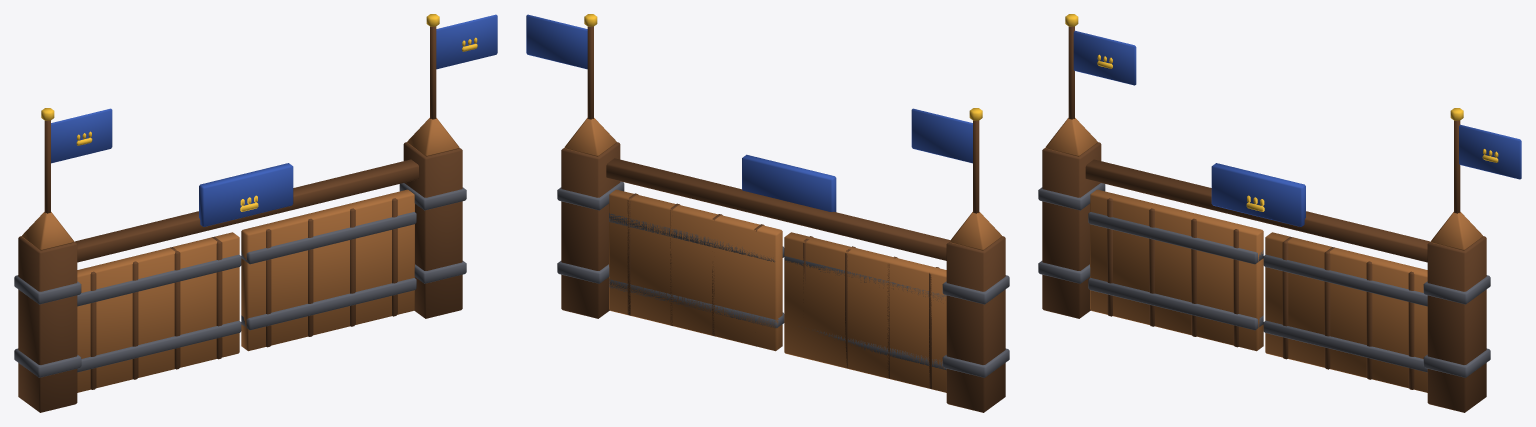
File: B_MedFenceGate.fbx
The picture shows the model from 3 angles, left to right: view 1: azimuth 30°, elevation 25°; view 2: azimuth 150°, elevation 25°; view 3: azimuth 330°, elevation 25°; orthographic projection.
Parts seen in each view (by area): view 1: M_FenceGate; view 2: M_FenceGate; view 3: M_FenceGate.
Part boxes in pixels (x1=…): M_FenceGate: x1=14, y1=14, x2=497, y2=412; M_FenceGate: x1=526, y1=14, x2=1009, y2=412; M_FenceGate: x1=1038, y1=14, x2=1521, y2=412.
Size of the model in its own units: 6.73 by 3.97 by 0.62.
1 material, 1 textured.
